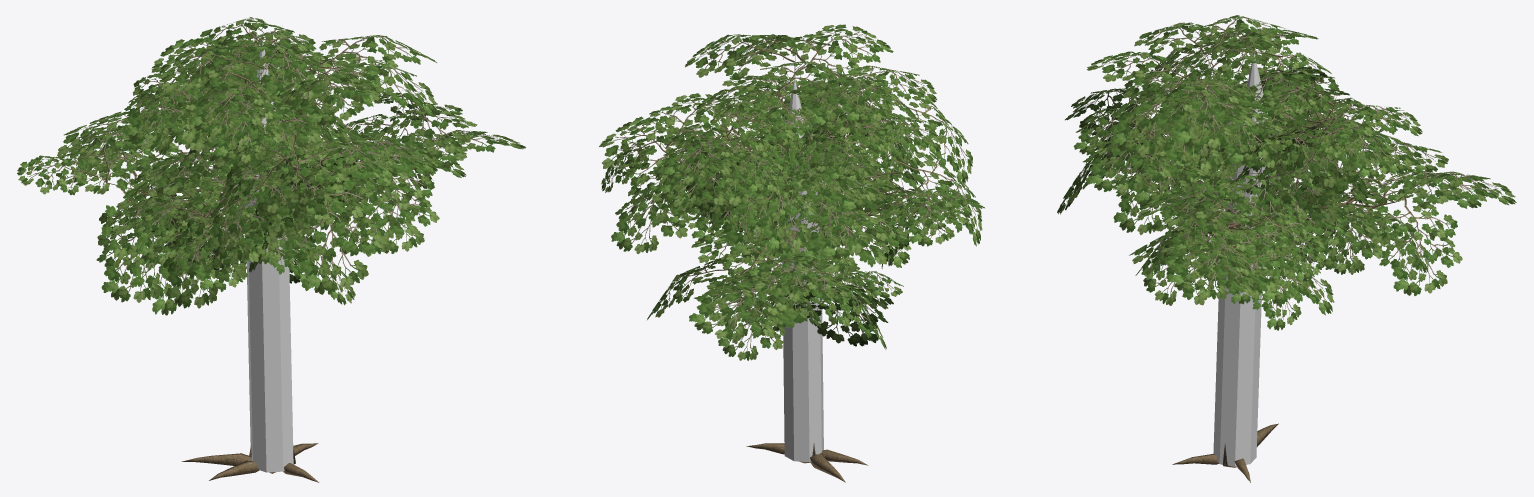
The model's file is tree_2.dae.
3 views of the same model, side by side, from view 1: azimuth 30°, elevation 25°; view 2: azimuth 150°, elevation 25°; view 3: azimuth 270°, elevation 25° (orthographic). The views are drawn at different scales.
Parts seen in each view (by area): view 1: Leafs_M, Leafs_reverse_M, Volume_M, Bark_M; view 2: Leafs_M, Leafs_reverse_M, Volume_M, Bark_M; view 3: Leafs_M, Leafs_reverse_M, Volume_M, Bark_M.
Part boxes in pixels (<box>): Leafs_M: <box>17,17,525,315</box>; Leafs_reverse_M: <box>17,18,525,315</box>; Volume_M: <box>244,41,293,472</box>; Bark_M: <box>89,18,402,482</box>; Leafs_M: <box>599,24,984,360</box>; Leafs_reverse_M: <box>599,25,984,360</box>; Volume_M: <box>778,79,823,461</box>; Bark_M: <box>653,47,931,482</box>; Leafs_M: <box>1057,15,1516,330</box>; Leafs_reverse_M: <box>1057,15,1516,330</box>; Volume_M: <box>1213,53,1271,466</box>; Bark_M: <box>1117,37,1408,482</box>.
Size of the model in its own units: 10.98 by 10.69 by 10.53.
Materials: 2 (2 with a texture image).
